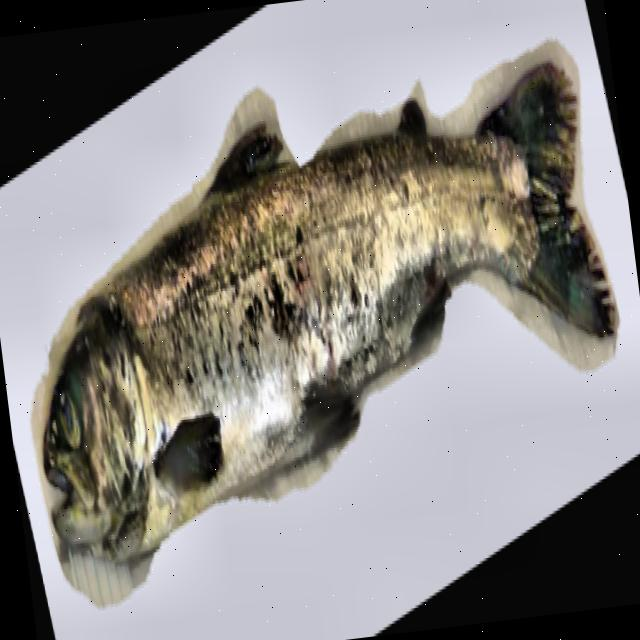mild_red: (113, 134, 537, 542)
